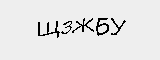Б: (95, 15, 109, 38)
Ж: (71, 15, 95, 36)
З: (61, 18, 72, 36)
У: (111, 14, 127, 37)
Щ: (35, 18, 61, 39)
